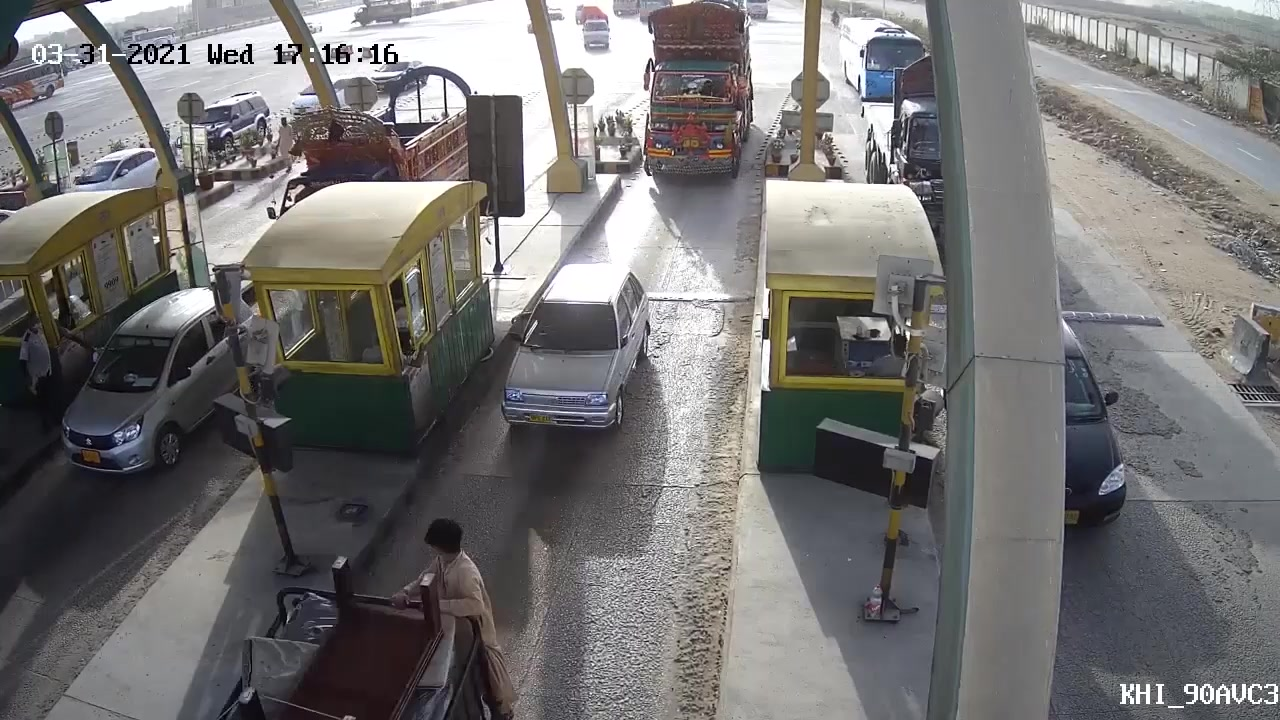F1: (499, 266, 647, 436)
F5: (640, 1, 758, 190)
